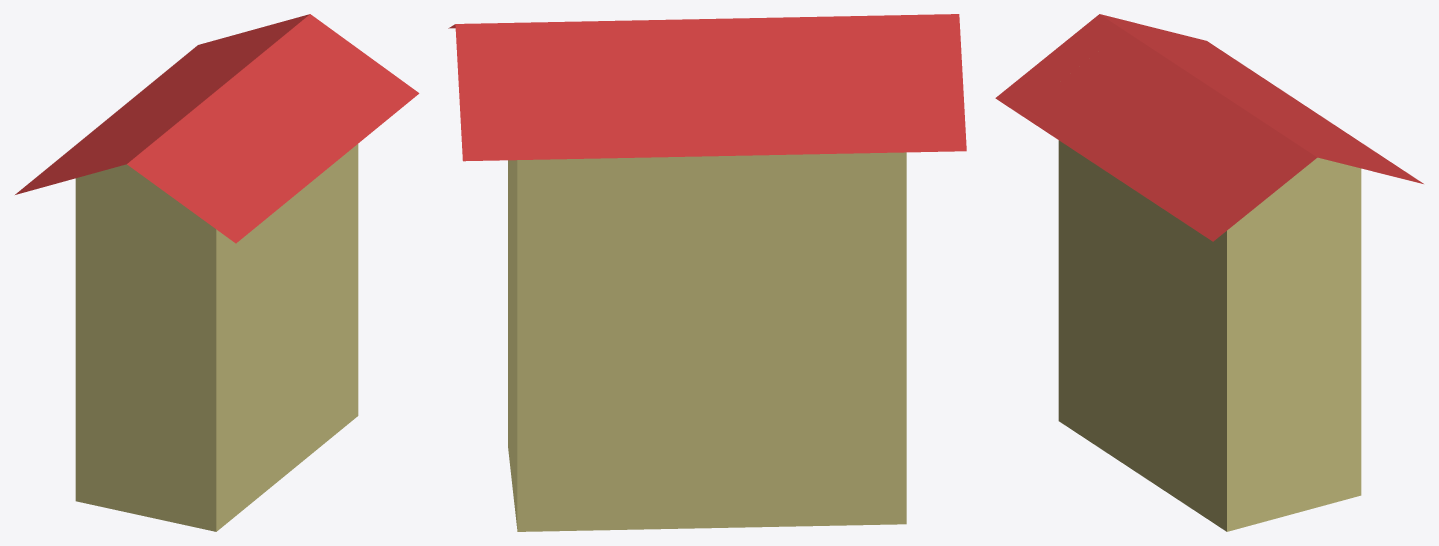
3 views of the same model, side by side, from view 1: azimuth 30°, elevation 25°; view 2: azimuth 150°, elevation 25°; view 3: azimuth 270°, elevation 25° (orthographic). The views are drawn at different scales.
Bounding box in the file's own units: 7.78 × 7.03 × 6.73.
